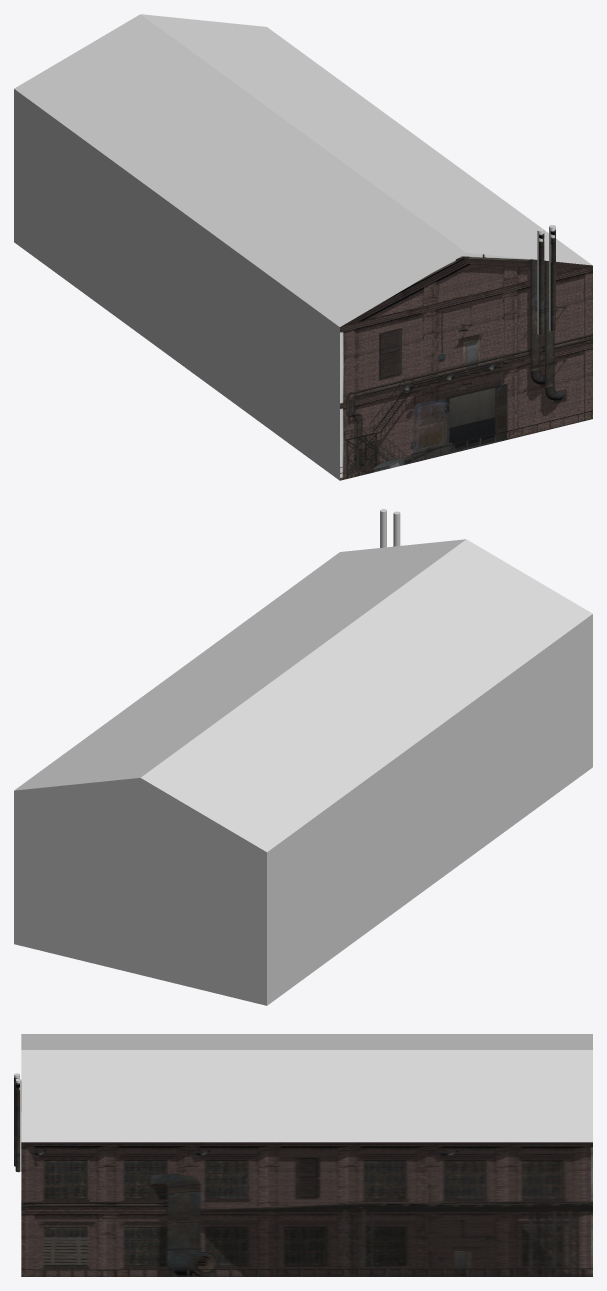
The model's file is Big Brick Factory Building.obj.
3 views of the same model, one above another, from view 1: azimuth 30°, elevation 25°; view 2: azimuth 150°, elevation 25°; view 3: azimuth 270°, elevation 25° (orthographic). The views are drawn at different scales.
Visible parts, largest first — view 1: Mesh1 Model, Mesh2 Model, Mesh3 Model; view 2: Mesh1 Model; view 3: Mesh1 Model, Mesh3 Model.
Part boxes in pixels (box(x1,y1,x2,y2)): Mesh1 Model: box(14, 14, 592, 480); Mesh2 Model: box(537, 228, 544, 335); Mesh3 Model: box(549, 225, 555, 331); Mesh1 Model: box(14, 539, 592, 1005); Mesh1 Model: box(21, 1034, 592, 1276); Mesh3 Model: box(15, 1078, 21, 1172).
Size of the model in its own units: 183 by 141 by 414.
29 materials, 28 textured.
